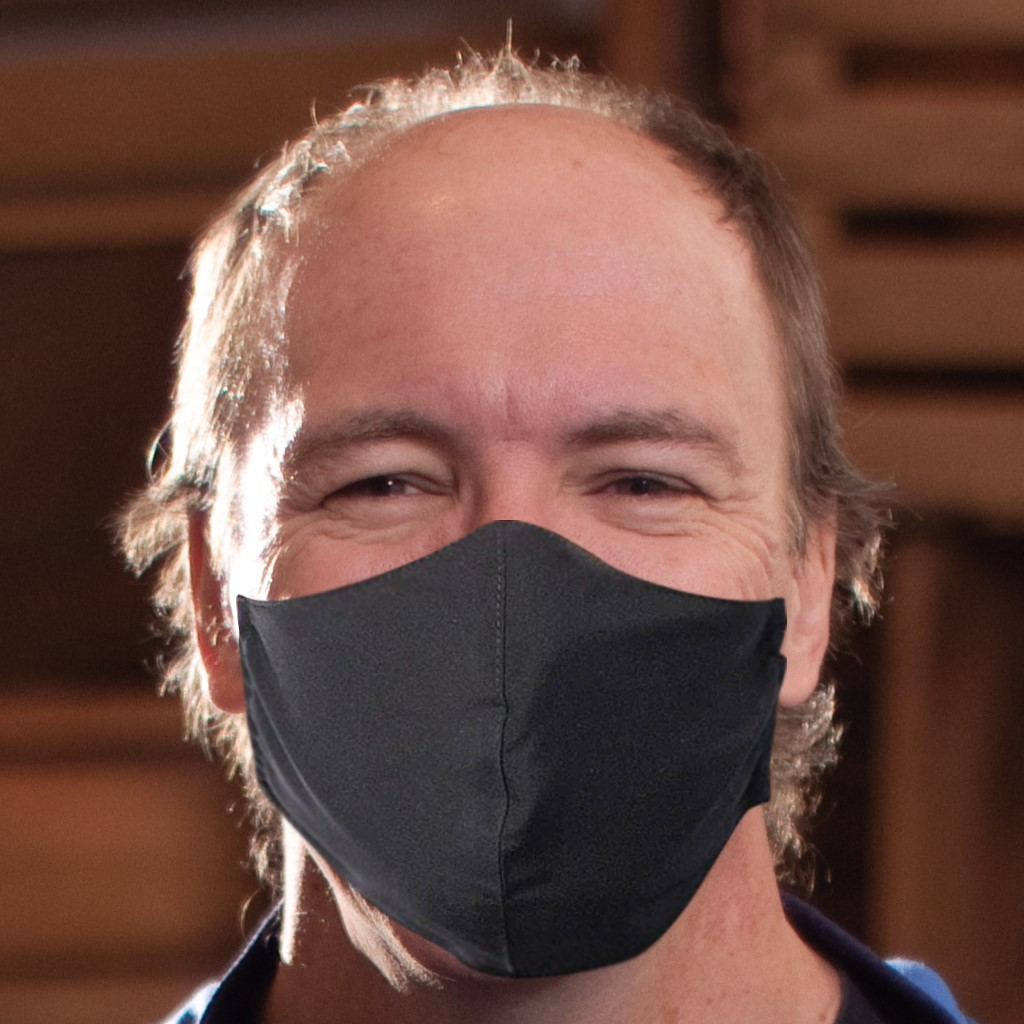con_mascara: (213, 111, 822, 955)
